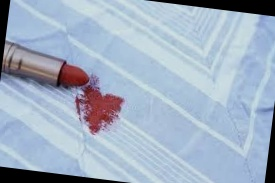lipstick: (68, 68, 126, 139)
